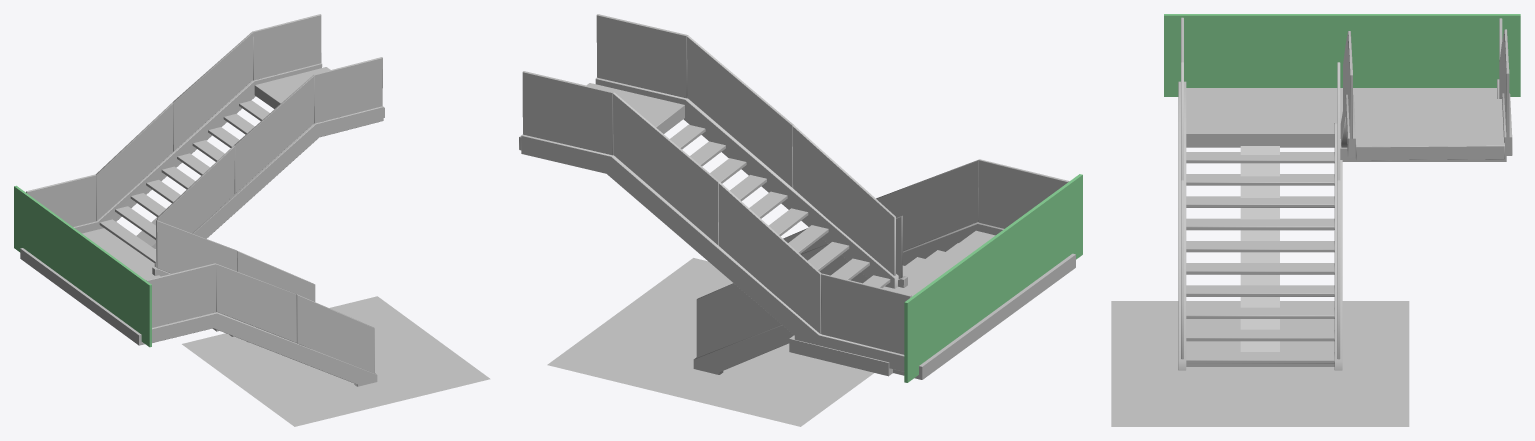
File: escaleras_001.obj
The picture shows the model from 3 angles, left to right: view 1: azimuth 30°, elevation 25°; view 2: azimuth 150°, elevation 25°; view 3: azimuth 270°, elevation 25°; orthographic projection. The views are drawn at different scales.
Visible parts, largest first — view 1: Suelo1, Box001, Cap_1_4, Cap_2_16, Cap_2_12, Cap_2_11, Cap_1_3, Cap_1_2, Cap_2_9, Cap_2_13, Cap_1, Cap_2_14 (+11 smaller); view 2: Suelo1, Box001, Cap_1_10, Cap_1_16, Cap_1_12, Cap_1_11, Cap_1_15, Cap_1_9, Cap_1_13, Cap_2_4, Cap_2_8, BasaSueloArriba (+15 smaller); view 3: Suelo1, Box001, BasaSueloArriba, BasaSueloArriba_2, SoporteTrasero, Escalon200x27x18_1, Escalon200x27x18_6, Escalon200x27x18_0, Escalon200x27x18_2, Escalon200x27x18_3, Escalon200x27x18_4, Escalon200x27x18_5 (+11 smaller).
Part boxes in pixels (bbox=[...]): Suelo1: bbox=[182, 296, 490, 426]; Box001: bbox=[14, 185, 151, 347]; Cap_1_4: bbox=[216, 264, 296, 342]; Cap_2_16: bbox=[235, 76, 314, 193]; Cap_2_12: bbox=[174, 33, 252, 150]; Cap_2_11: bbox=[96, 104, 173, 220]; Cap_1_3: bbox=[297, 295, 374, 373]; Cap_1_2: bbox=[152, 313, 377, 386]; Cap_2_9: bbox=[253, 15, 321, 80]; Cap_2_13: bbox=[315, 58, 382, 123]; Cap_1: bbox=[147, 264, 215, 327]; Cap_2_14: bbox=[193, 107, 383, 238]; Suelo1: bbox=[547, 258, 873, 426]; Box001: bbox=[904, 174, 1082, 382]; Cap_1_10: bbox=[521, 136, 904, 371]; Cap_1_16: bbox=[687, 37, 792, 187]; Cap_1_12: bbox=[613, 94, 717, 244]; Cap_1_11: bbox=[718, 183, 820, 333]; Cap_1_15: bbox=[793, 127, 894, 275]; Cap_1_9: bbox=[522, 72, 612, 155]; Cap_1_13: bbox=[597, 15, 686, 98]; Cap_2_4: bbox=[876, 161, 978, 250]; Cap_2_8: bbox=[821, 275, 909, 354]; BasaSueloArriba: bbox=[893, 230, 1075, 379]; Suelo1: bbox=[1111, 301, 1409, 426]; Box001: bbox=[1164, 14, 1520, 96]; BasaSueloArriba: bbox=[1186, 88, 1496, 147]; BasaSueloArriba_2: bbox=[1354, 99, 1504, 160]; SoporteTrasero: bbox=[1240, 146, 1279, 351]; Escalon200x27x18_1: bbox=[1186, 329, 1334, 341]; Escalon200x27x18_6: bbox=[1186, 218, 1334, 230]; Escalon200x27x18_0: bbox=[1186, 352, 1334, 363]; Escalon200x27x18_2: bbox=[1186, 307, 1334, 318]; Escalon200x27x18_3: bbox=[1186, 285, 1334, 296]; Escalon200x27x18_4: bbox=[1186, 263, 1334, 274]; Escalon200x27x18_5: bbox=[1186, 241, 1334, 252].
Bounding box in the file's own units: 260 × 203 × 216.
